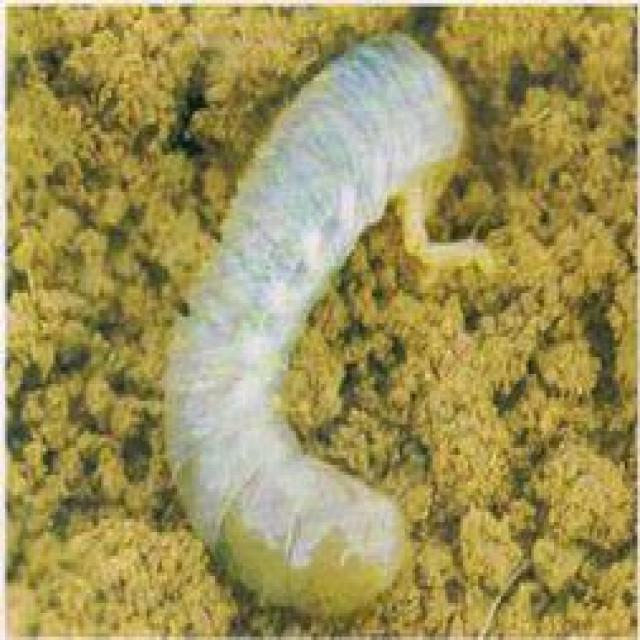Grub-Adult-: (152, 24, 489, 619)
